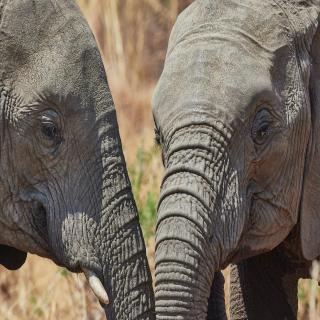Elephant: (149, 0, 320, 319), (0, 0, 156, 320)
